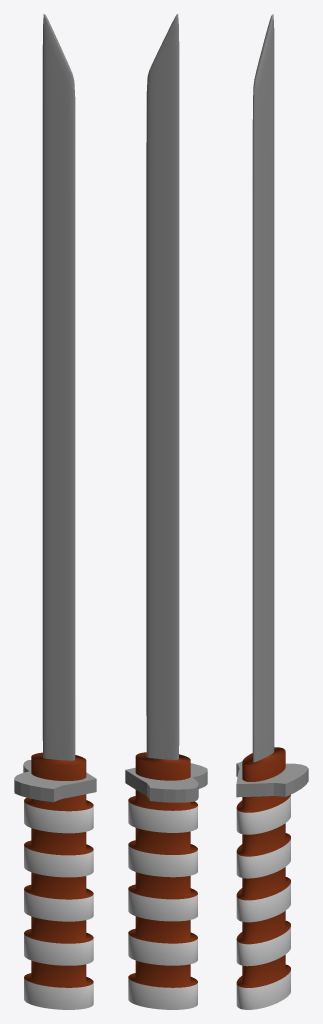
The model's file is sword.fbx.
3 views of the same model, side by side, from view 1: azimuth 30°, elevation 25°; view 2: azimuth 210°, elevation 25°; view 3: azimuth 270°, elevation 25° (orthographic).
Parts seen in each view (by area): view 1: Plane, Cylinder.001, Circle.001; view 2: Plane, Cylinder.001, Circle.001; view 3: Plane, Cylinder.001, Circle.001.
Part boxes in pixels (x1,y1,x2,y2): Plane: (42,14,75,760); Cylinder.001: (24,752,93,1009); Circle.001: (14,760,96,802); Plane: (146,14,179,759); Cylinder.001: (128,752,197,1009); Circle.001: (125,763,207,802); Plane: (252,14,274,762); Cylinder.001: (236,747,290,1009); Circle.001: (236,761,308,797).
Bounding box in the file's own units: 31.58 × 465 × 31.08.
